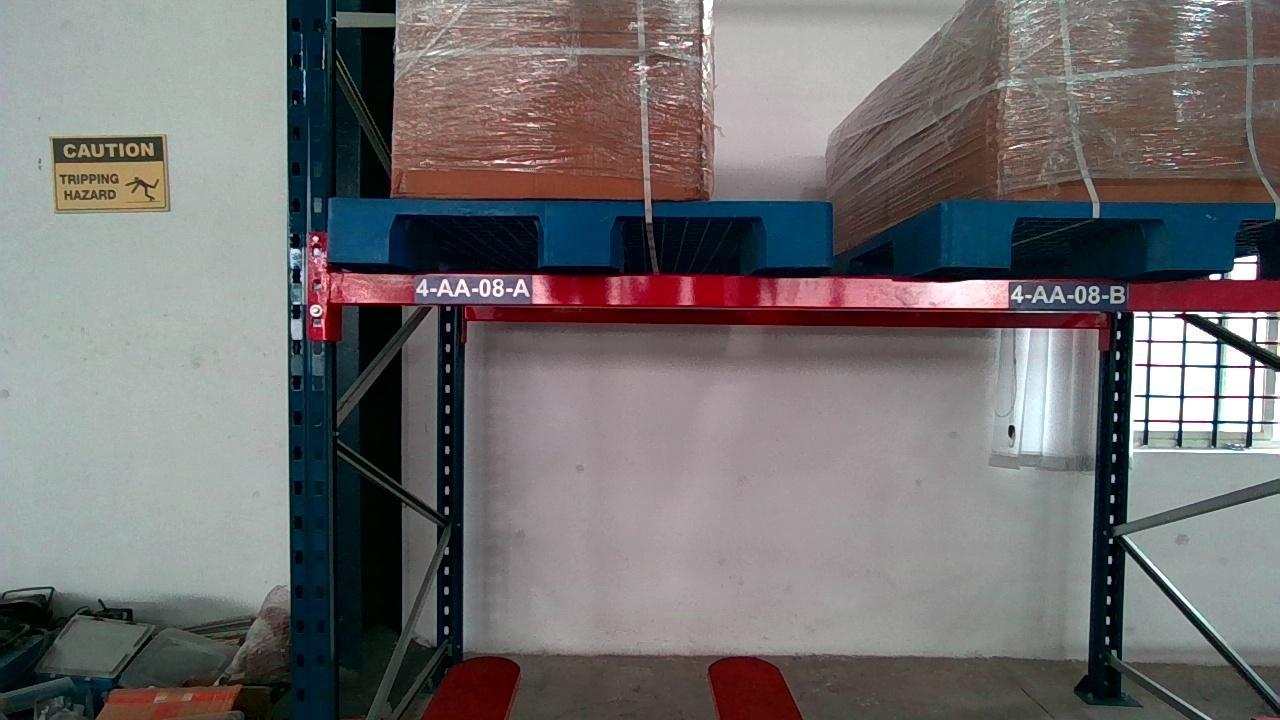h_rack: (322, 272, 1280, 308)
small_pallet: (324, 198, 834, 267), (951, 199, 1280, 268)
